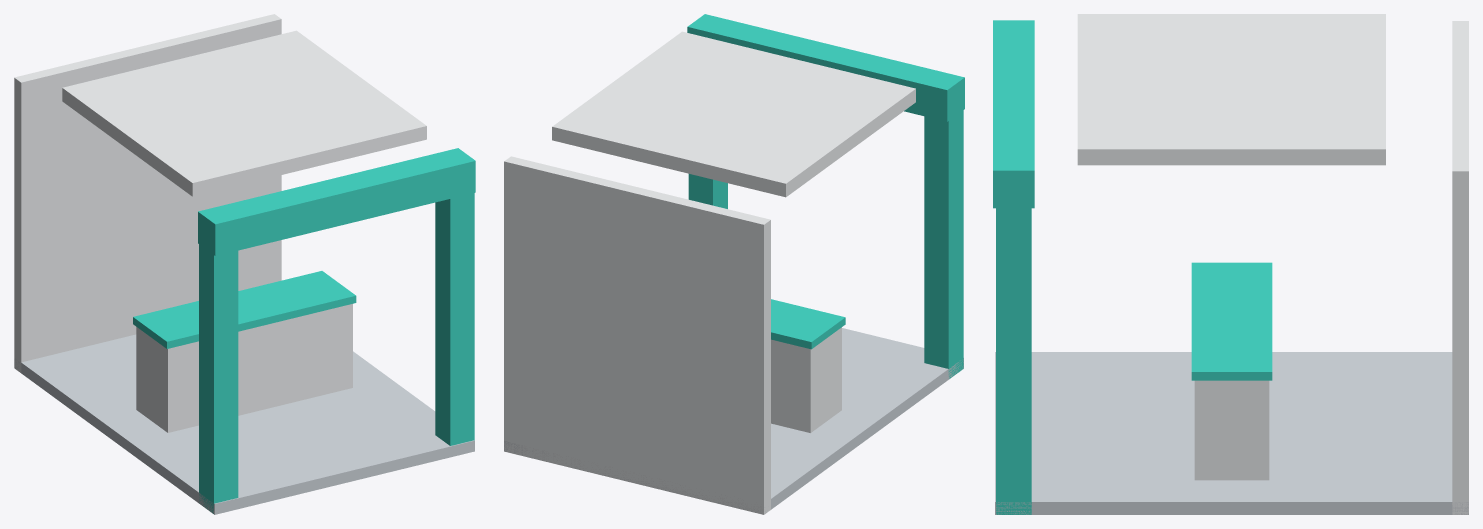
The picture shows the model from 3 angles, left to right: view 1: azimuth 30°, elevation 25°; view 2: azimuth 150°, elevation 25°; view 3: azimuth 270°, elevation 25°; orthographic projection. The views are drawn at different scales.
Visible parts, largest first — view 1: Exhibition Booth Concept; view 2: Exhibition Booth Concept; view 3: Exhibition Booth Concept.
Part boxes in pixels (x1,y1,x2,y2): Exhibition Booth Concept: (14, 14, 475, 514); Exhibition Booth Concept: (504, 14, 964, 514); Exhibition Booth Concept: (993, 14, 1468, 514).
Bounding box in the file's own units: 3 × 3.34 × 4.02.
